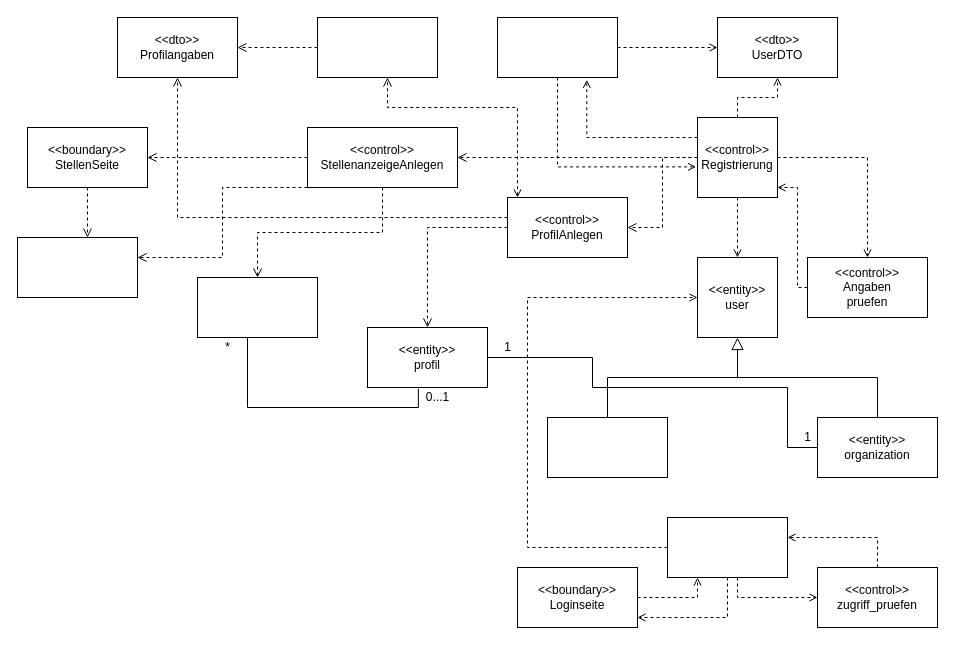
Image size: 955x645. Some labels were removed from this diagram. Here are the shapes that lost their labels. From the top down, the centre of each, then its label:
point (377, 47): <<boundary>> Profilseite
point (557, 47): <<boundary>> Registrierungsseite
point (77, 267): <<dto>> StellenAngaben
point (257, 307): <<entity>> Stellenanzeige
point (607, 447): <<entity>> student
point (727, 547): <<control>> Login
